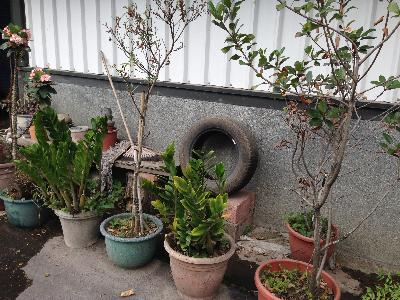tire: (178, 114, 261, 199)
